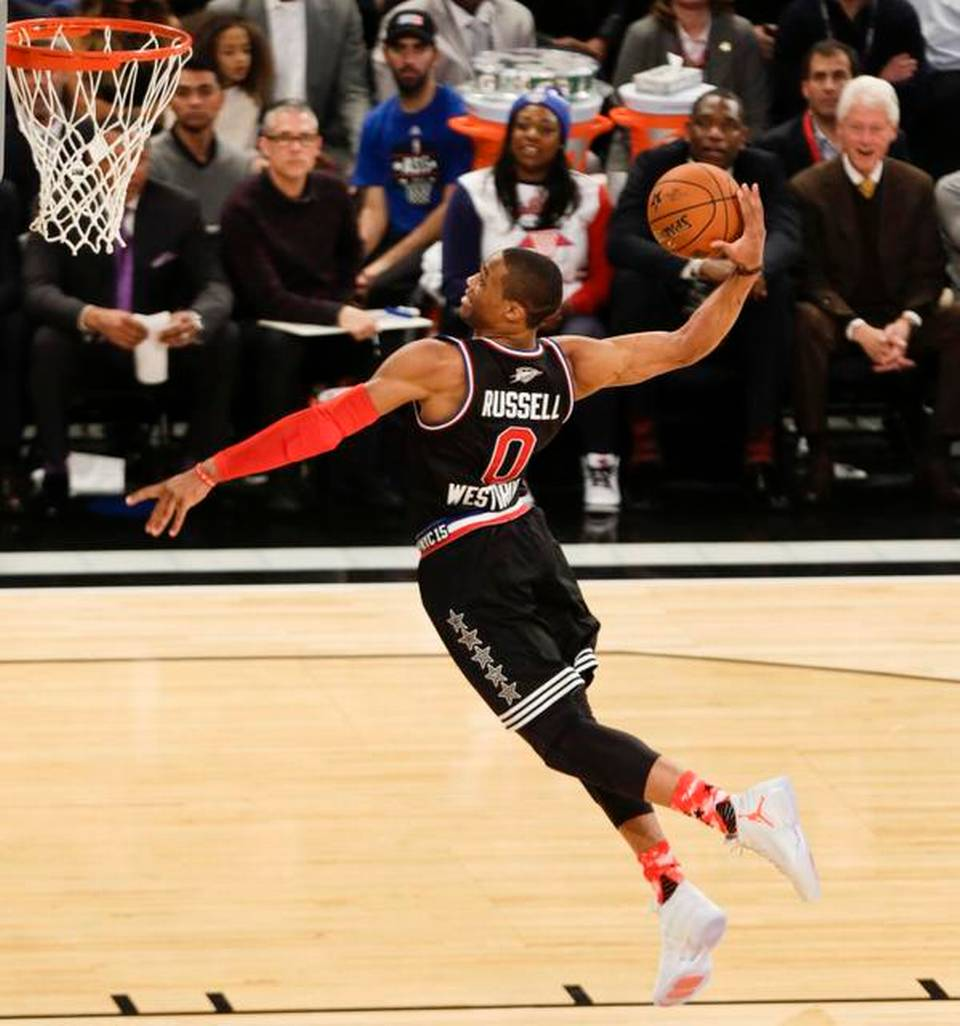basketball: (649, 159, 749, 264)
